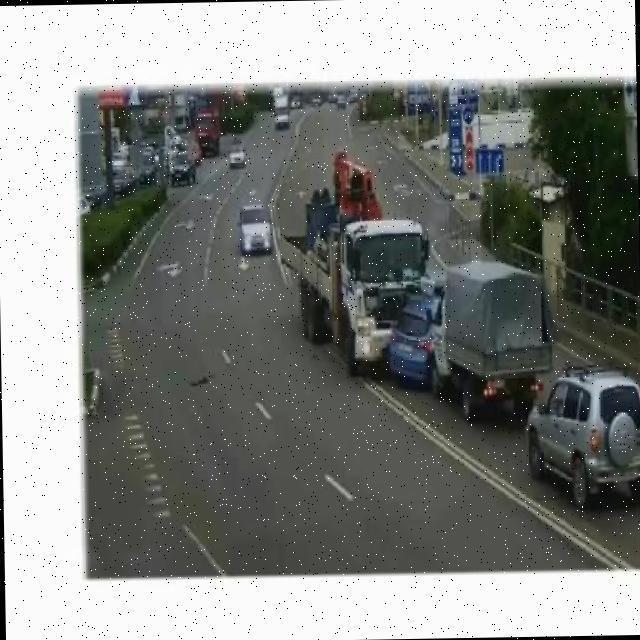accident: (287, 145, 545, 438)
